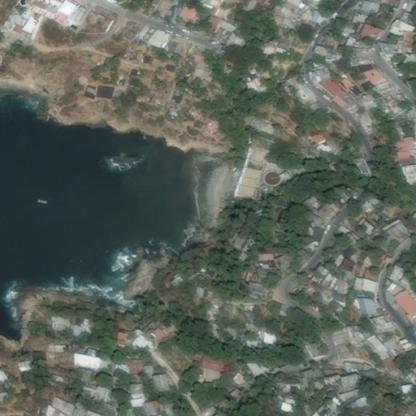ship: (28, 192, 52, 209)
